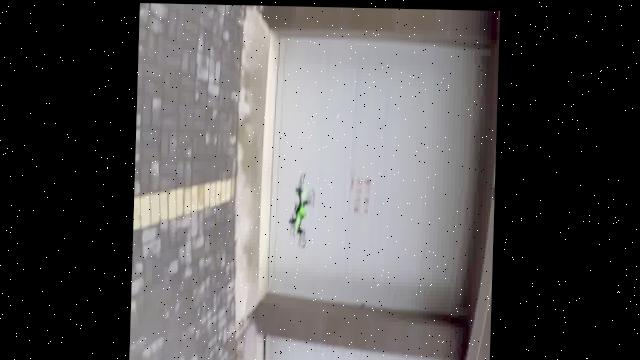drone: (282, 165, 321, 248)
